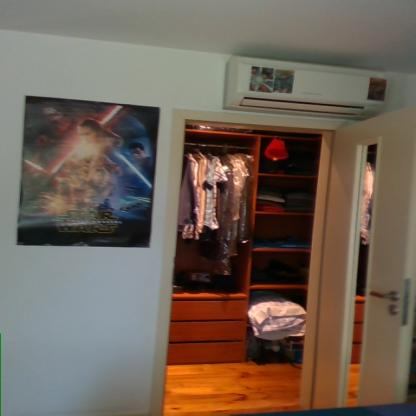open: (161, 92, 399, 407)
